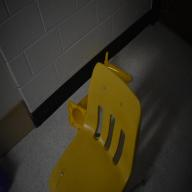cone: (104, 51, 132, 83), (68, 94, 88, 130)
